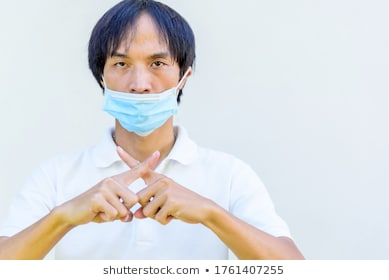mask_weared_incorrect: (104, 46, 181, 138)
